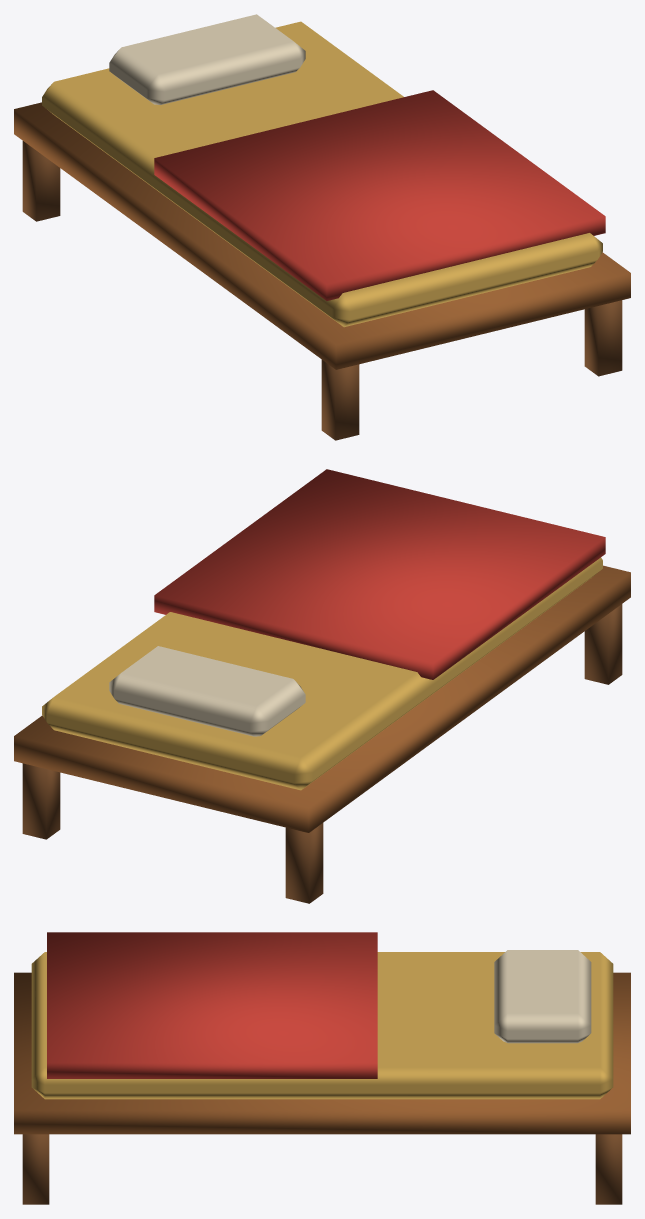
Rendered from cot.glb.
3 views of the same model, one above another, from view 1: azimuth 30°, elevation 25°; view 2: azimuth 150°, elevation 25°; view 3: azimuth 270°, elevation 25° (orthographic). The views are drawn at different scales.
Visible parts, largest first — view 1: cot; view 2: cot; view 3: cot.
Part boxes in pixels (left/top/right/bottom): cot: left=14, top=14, right=630, bottom=440; cot: left=14, top=469, right=630, bottom=903; cot: left=14, top=932, right=630, bottom=1204.
Size of the model in its own units: 0.74 by 0.39 by 1.4.
